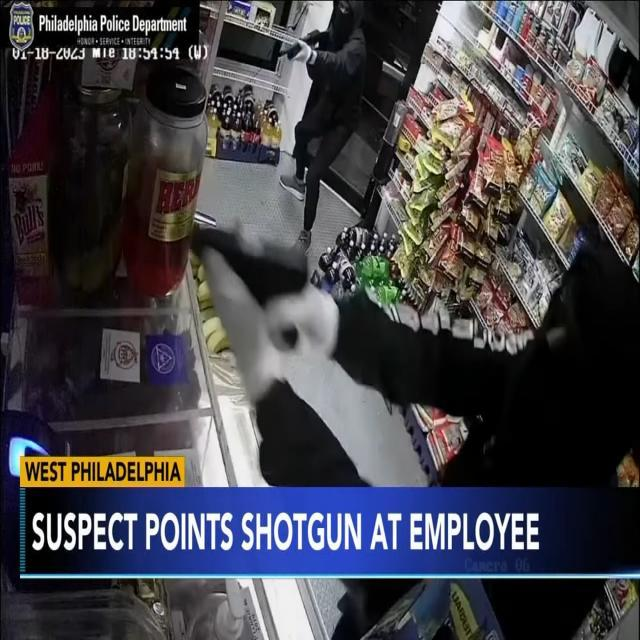weapon: (184, 212, 308, 358), (271, 24, 329, 64)
